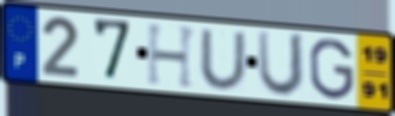2: (40, 15, 84, 80)
7: (91, 16, 133, 84)
G: (307, 37, 356, 102)
H: (145, 22, 200, 91)
U: (255, 28, 307, 100), (197, 28, 249, 93)
